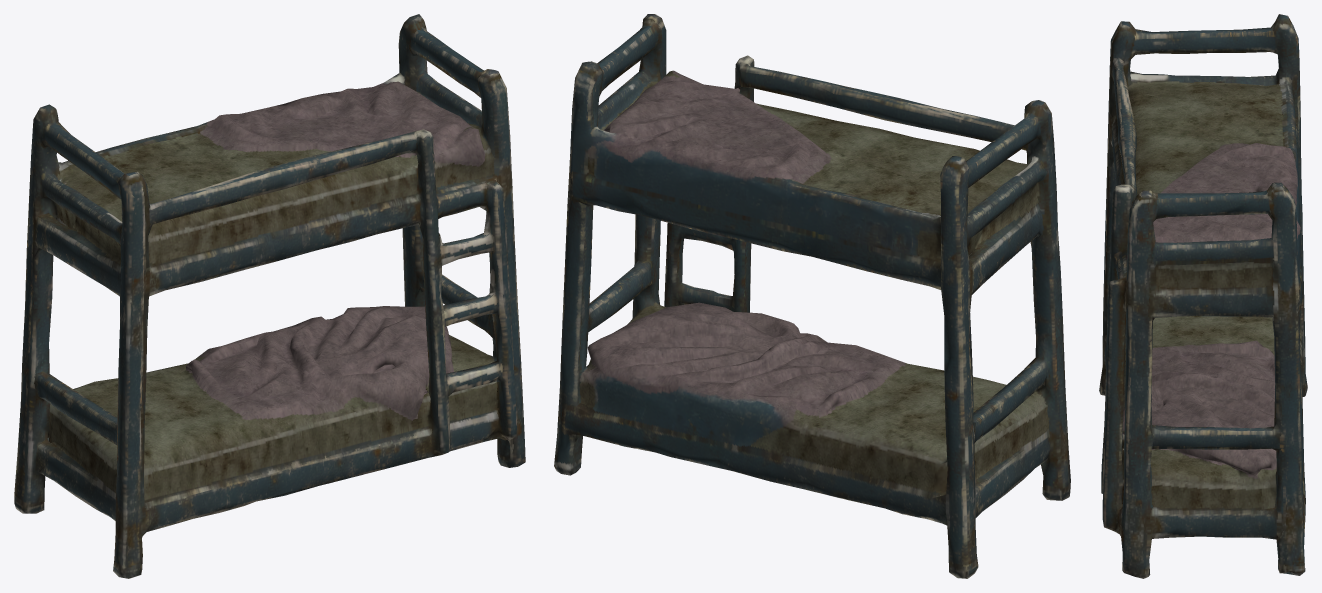
The model's file is bunker_bunk_bed_candidate.glb.
3 renders of one model, left to right at view 1: azimuth 30°, elevation 25°; view 2: azimuth 150°, elevation 25°; view 3: azimuth 270°, elevation 25°, orthographic. The views are drawn at different scales.
Visible parts, largest first — view 1: bunker_bunk_bed_candidate; view 2: bunker_bunk_bed_candidate; view 3: bunker_bunk_bed_candidate.
Boxes of the visible parts, x1,y1,x2,y2 form: bunker_bunk_bed_candidate: (14, 14, 525, 578); bunker_bunk_bed_candidate: (554, 14, 1070, 578); bunker_bunk_bed_candidate: (1099, 14, 1307, 578).
Size of the model in its own units: 2 by 1.85 by 0.9.
Materials: 1 (1 with a texture image).
